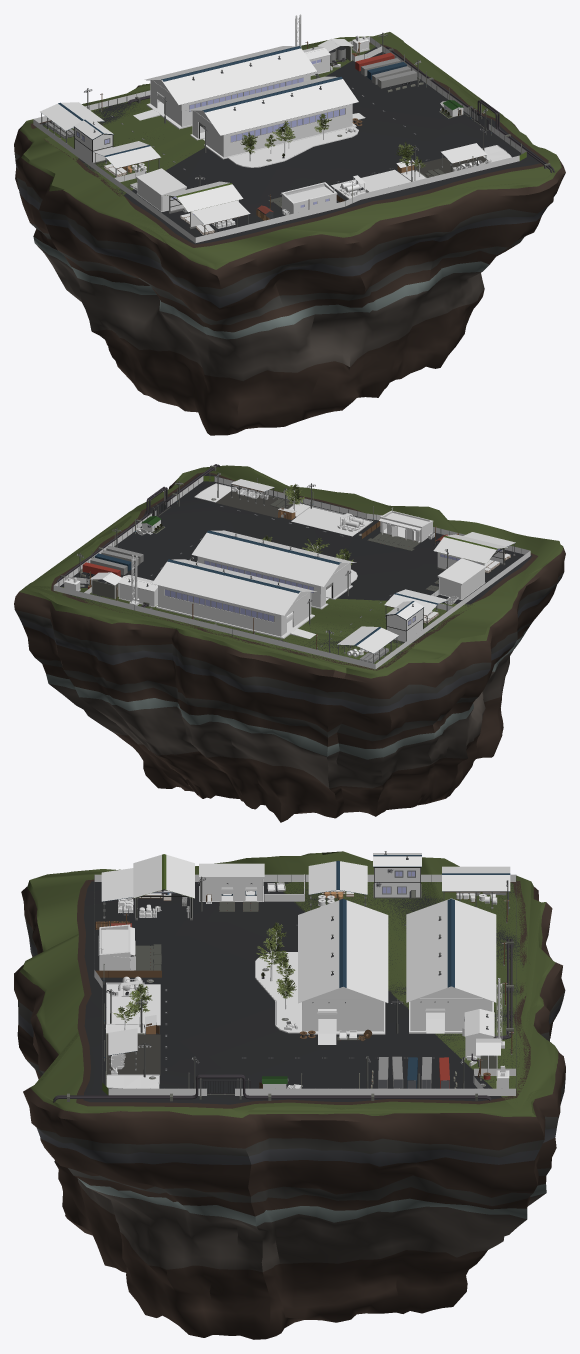
The model's file is map.fbx.
3 views of the same model, one above another, from view 1: azimuth 30°, elevation 25°; view 2: azimuth 150°, elevation 25°; view 3: azimuth 270°, elevation 25° (orthographic). The views are drawn at different scales.
Visible parts, largest first — view 1: Plane; view 2: Plane; view 3: Plane.
Part boxes in pixels (x1,y1,x2,y2): Plane: (14,14,565,435); Plane: (14,464,565,822); Plane: (14,851,565,1339).
Size of the model in its own units: 16569 by 9836 by 14274.
